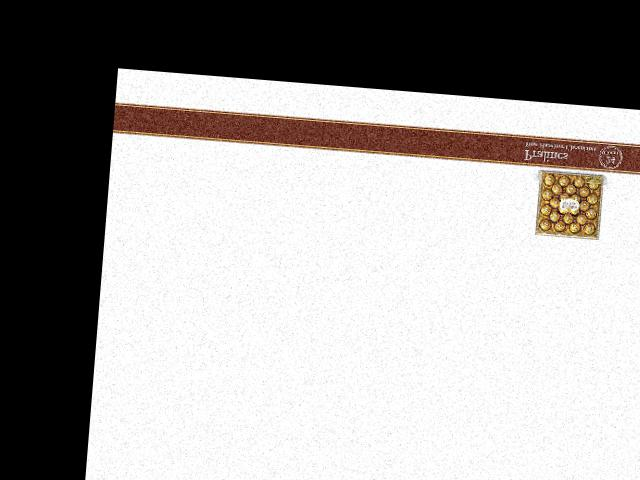chocolate: (532, 166, 608, 244)
